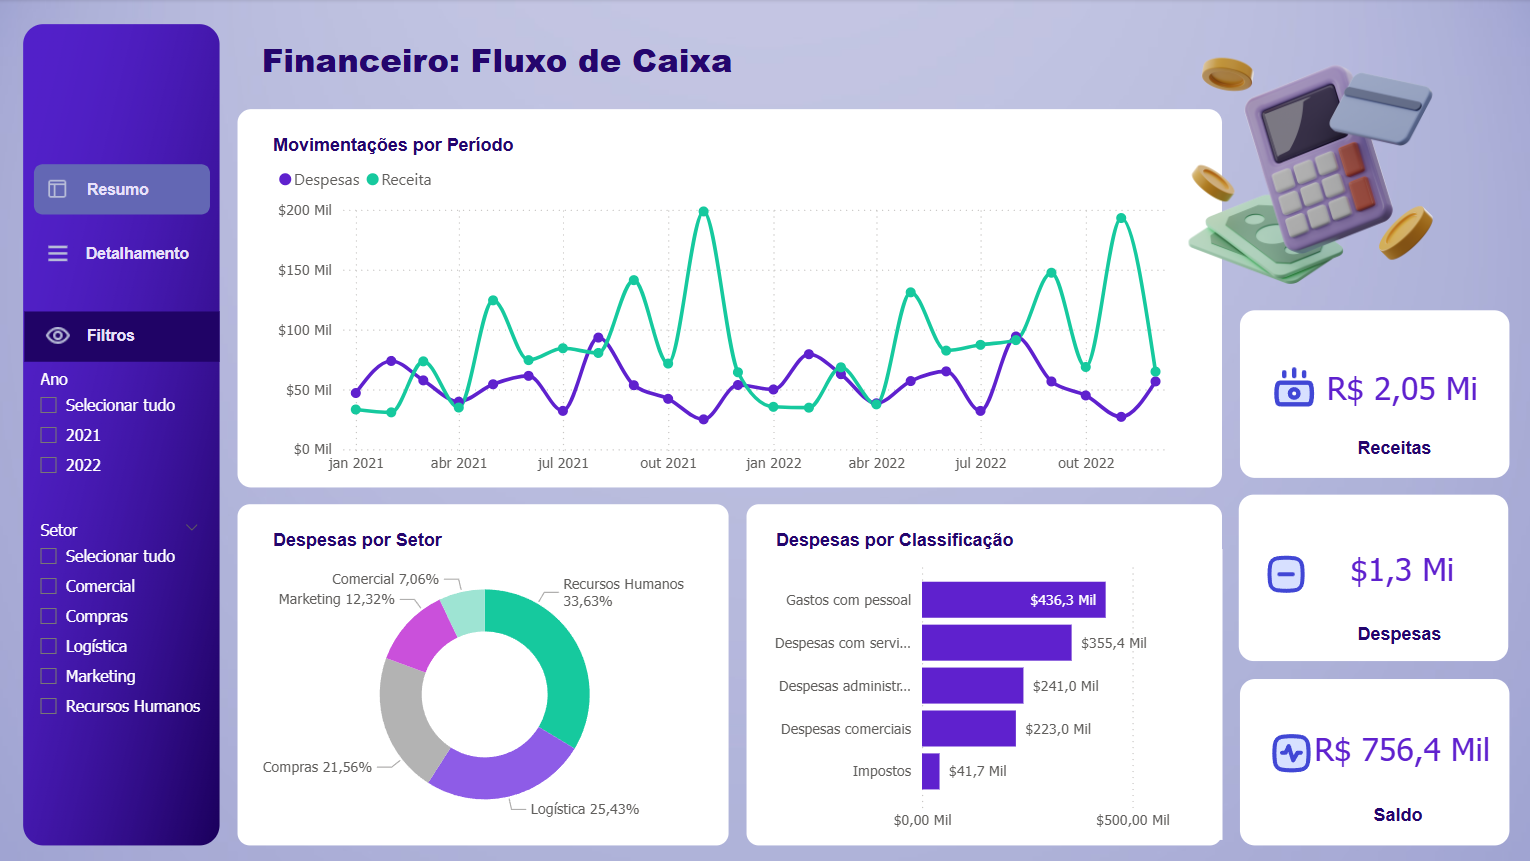

The dashboard page shown, as its layout file describes it:
{"tool":"powerbi","page":{"name":"Página 1","canvas":[1280,720],"ordinal":0},"visuals":[{"type":"card","fields":{"Values":["Medidas.Receita"]},"box":[1084.5,282.2,177.4,86.7],"z":0},{"type":"card","fields":{"Values":["Medidas.Despesas"]},"box":[1084.5,430.4,177.4,93.7],"z":1000},{"type":"card","fields":{"Values":["Medidas.Saldo"]},"box":[1084.5,578.5,177.4,96.8],"z":2000},{"type":"lineChart","fields":{"Category":["Relatório.Data.Variation.Hierarquia de datas.Ano","Relatório.Data.Variation.Hierarquia de datas.Trimestre","Relatório.Data.Variation.Hierarquia de datas.Mês","Relatório.Data.Variation.Hierarquia de datas.Dia"],"Y":["Medidas.Despesas","Medidas.Receita"]},"box":[228.8,130,767,274.1],"z":2001},{"type":"slicer","fields":{"Values":["Relatório.Data.Variation.Hierarquia de datas.Ano"]},"box":[22.2,304.4,157.2,126],"z":2002},{"type":"slicer","fields":{"Values":["Centro de Custo.Setor"]},"box":[22.2,430.4,157.2,196.5],"z":2003},{"type":"donutChart","fields":{"Category":["Centro de Custo.Setor"],"Y":["Medidas.Despesas"]},"box":[210.6,459.6,392.1,242.9],"z":2004},{"type":"clusteredBarChart","fields":{"Category":["Relatório.Classificação"],"Y":["Medidas.Despesas"]},"box":[629.9,459.6,393.1,242.9],"z":2005}]}

Visuals, with their boxes on the page's 1280x720 design canvas (x1, y1, x2, y2). These are canvas units, not pixel positions in the 1530x861 screenshot, which may show the page scaled, cropped or inside an application window:
card - Medidas.Receita: locate(1084, 282, 1262, 369)
card - Medidas.Despesas: locate(1084, 430, 1262, 524)
card - Medidas.Saldo: locate(1084, 578, 1262, 675)
lineChart - Relatório.Data.Variation.Hierarquia de datas.Ano x Relatório.Data.Variation.Hierarquia de datas.Trimestre: locate(229, 130, 996, 404)
slicer - Relatório.Data.Variation.Hierarquia de datas.Ano: locate(22, 304, 179, 430)
slicer - Centro de Custo.Setor: locate(22, 430, 179, 627)
donutChart - Centro de Custo.Setor x Medidas.Despesas: locate(211, 460, 603, 702)
clusteredBarChart - Relatório.Classificação x Medidas.Despesas: locate(630, 460, 1023, 702)
